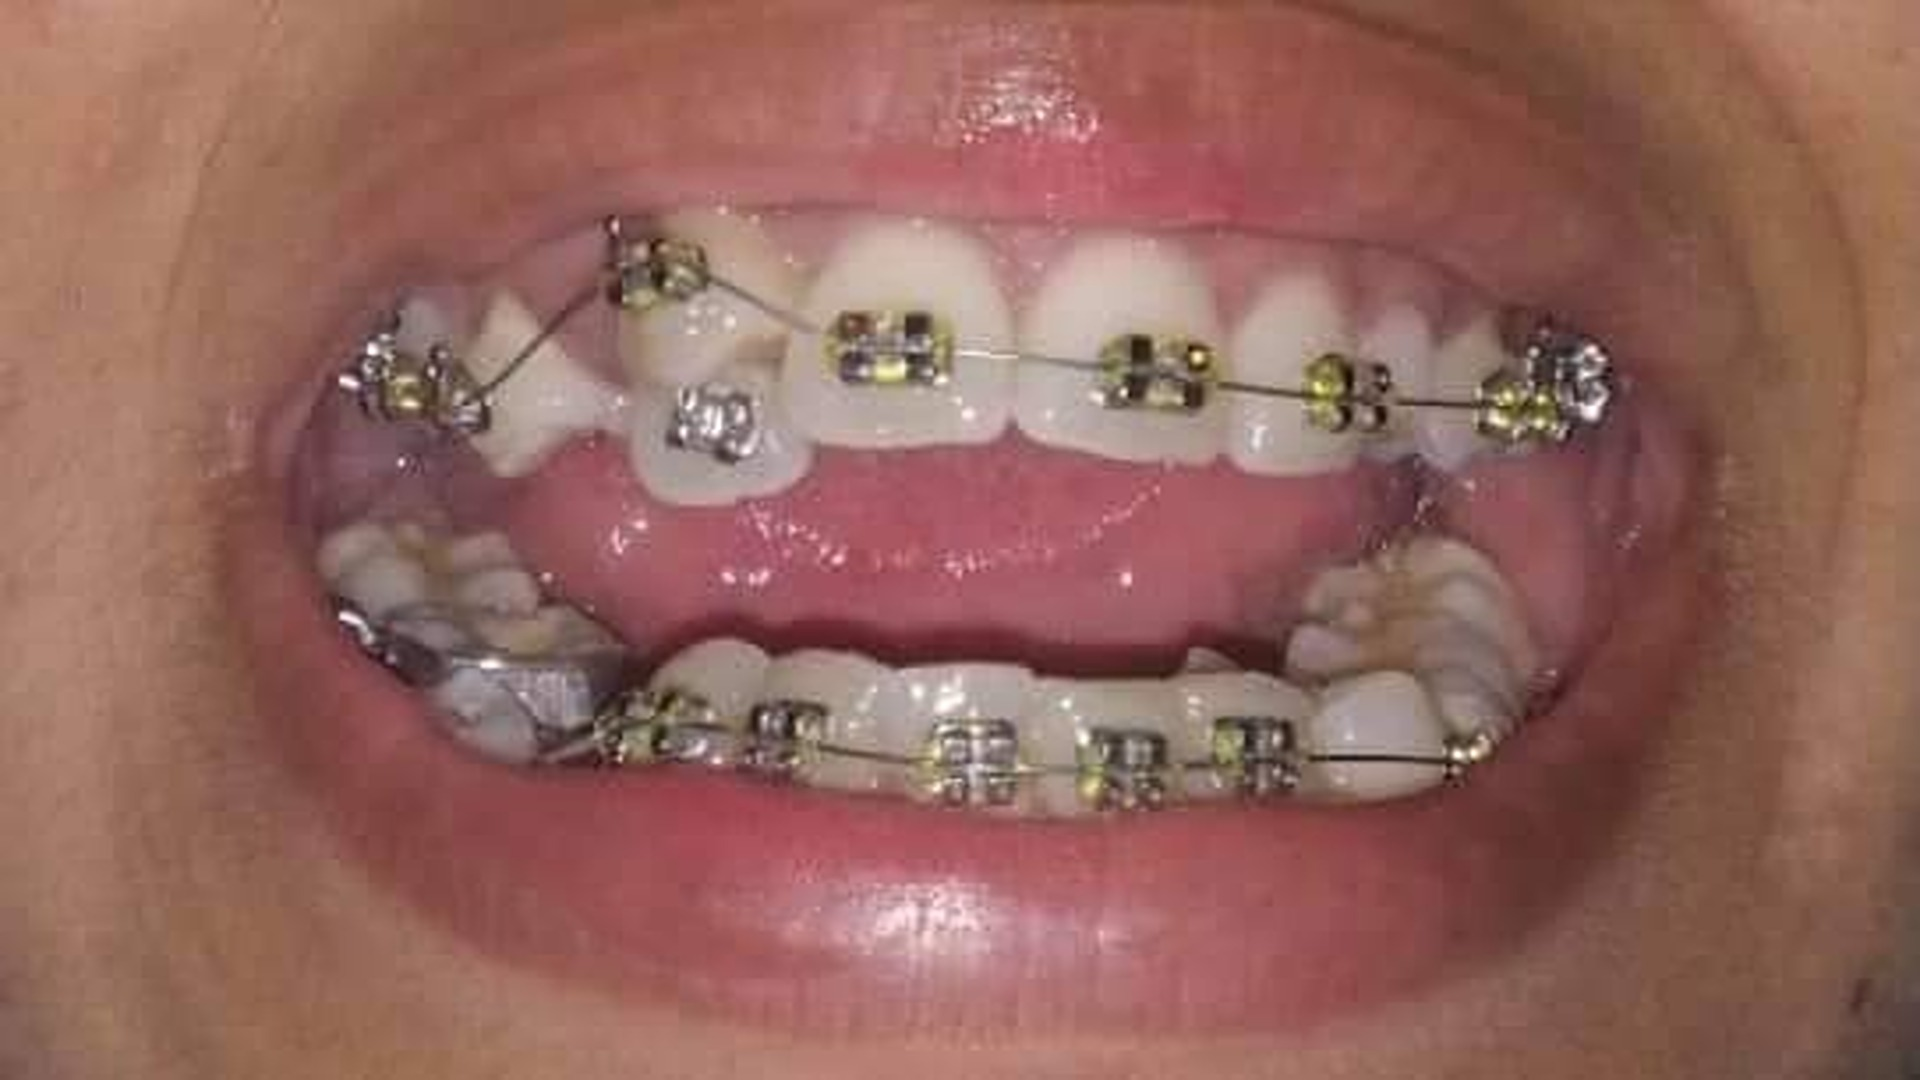tooth: (785, 216, 1019, 448), (1015, 228, 1228, 460), (1228, 265, 1358, 476)
